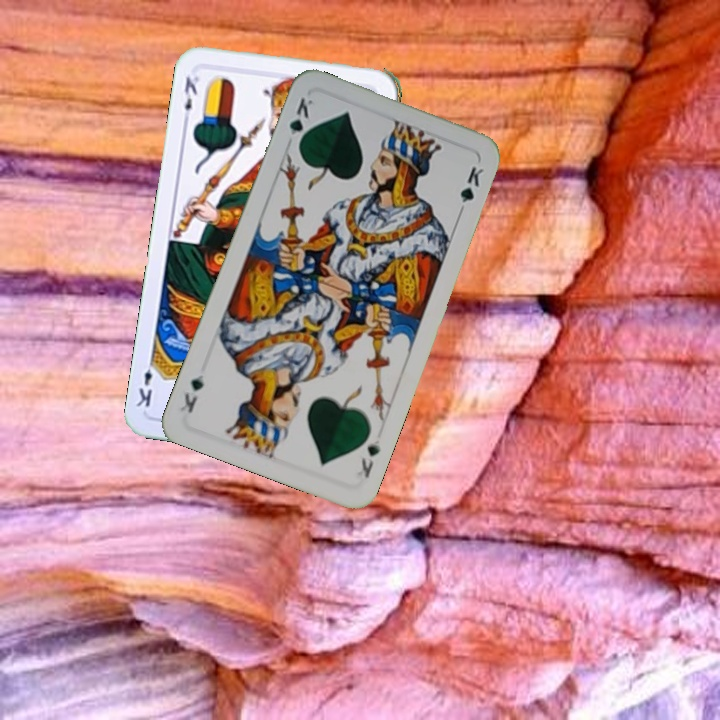EK: (179, 73, 201, 124)
GK: (285, 93, 317, 151), (357, 436, 383, 481)
